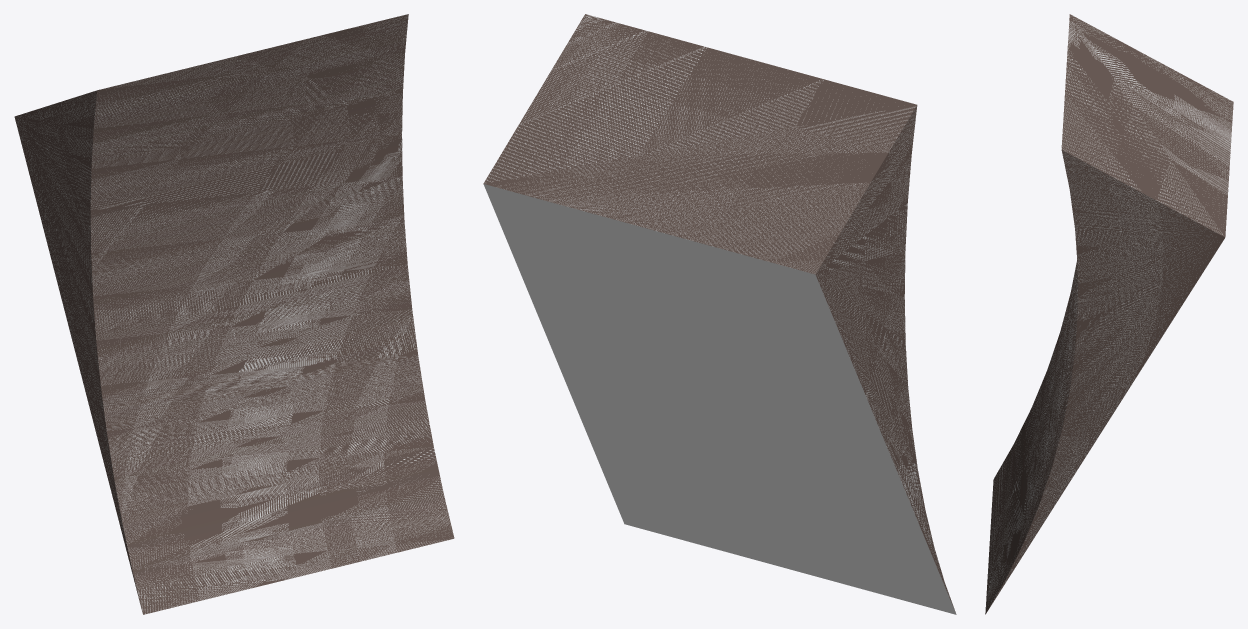
The model's file is original-15.obj.
3 renders of one model, left to right at view 1: azimuth 30°, elevation 25°; view 2: azimuth 150°, elevation 25°; view 3: azimuth 270°, elevation 25°, orthographic. The views are drawn at different scales.
Parts seen in each view (by area): view 1: mesh26/mesh26-geometry#mesh26-geometry; view 2: mesh26/mesh26-geometry#mesh26-geometry; view 3: mesh26/mesh26-geometry#mesh26-geometry.
Part boxes in pixels (x1,y1,x2,y2): mesh26/mesh26-geometry#mesh26-geometry: (14,14,454,614); mesh26/mesh26-geometry#mesh26-geometry: (483,14,956,614); mesh26/mesh26-geometry#mesh26-geometry: (985,14,1233,614).
Bounding box in the file's own units: 0.0501 × 0.0767 × 0.0369.
